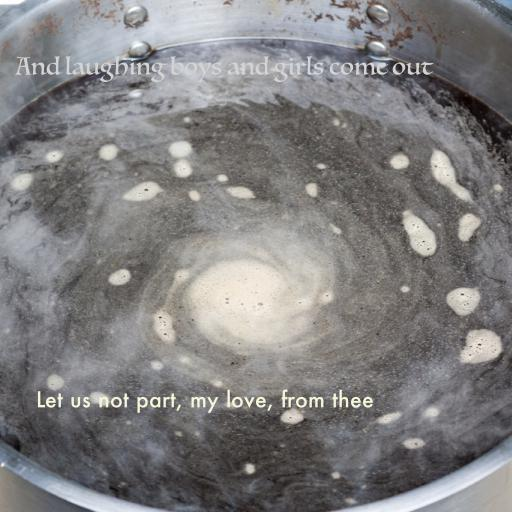Futura: (36, 389, 374, 413)
Luminari: (16, 56, 432, 83)
